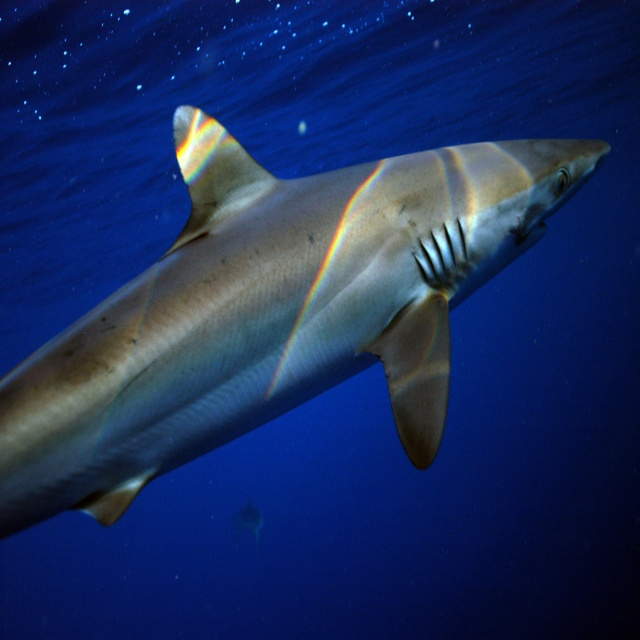Shark: (0, 105, 612, 536)
